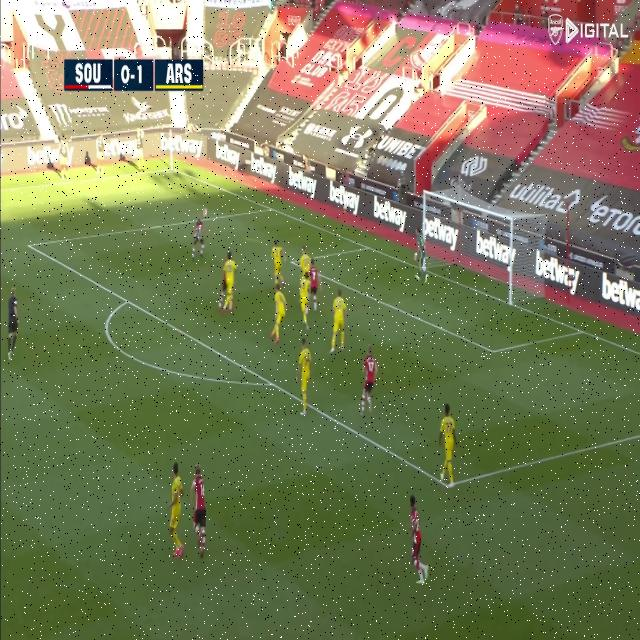GoalKeeper: (408, 228, 434, 292)
TEAM 1: (186, 462, 214, 569), (405, 490, 431, 589), (360, 344, 380, 414), (191, 214, 207, 265), (308, 258, 322, 313)
TEAM 2: (162, 456, 187, 566), (291, 334, 313, 424), (438, 400, 460, 487), (333, 284, 351, 358), (297, 243, 312, 330), (268, 232, 286, 289), (299, 226, 316, 286), (224, 249, 238, 319), (271, 282, 283, 348)
